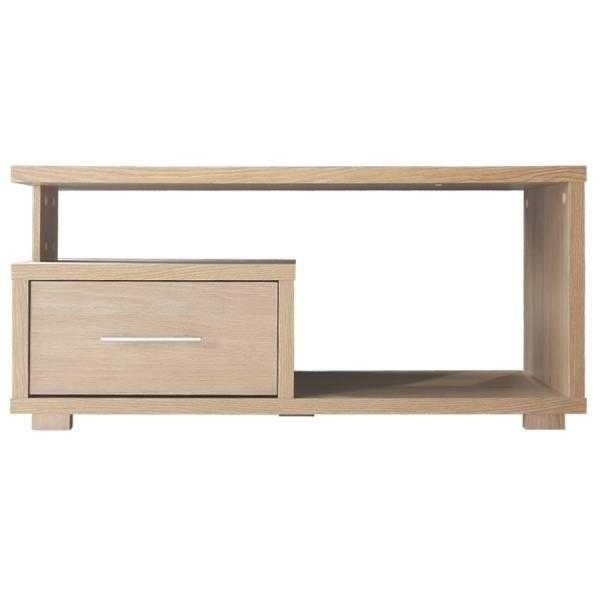obstacle: (11, 166, 585, 429)
